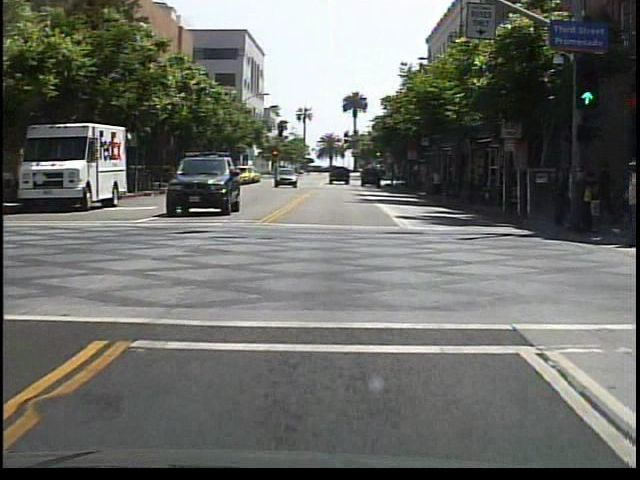person: (545, 159, 568, 235)
